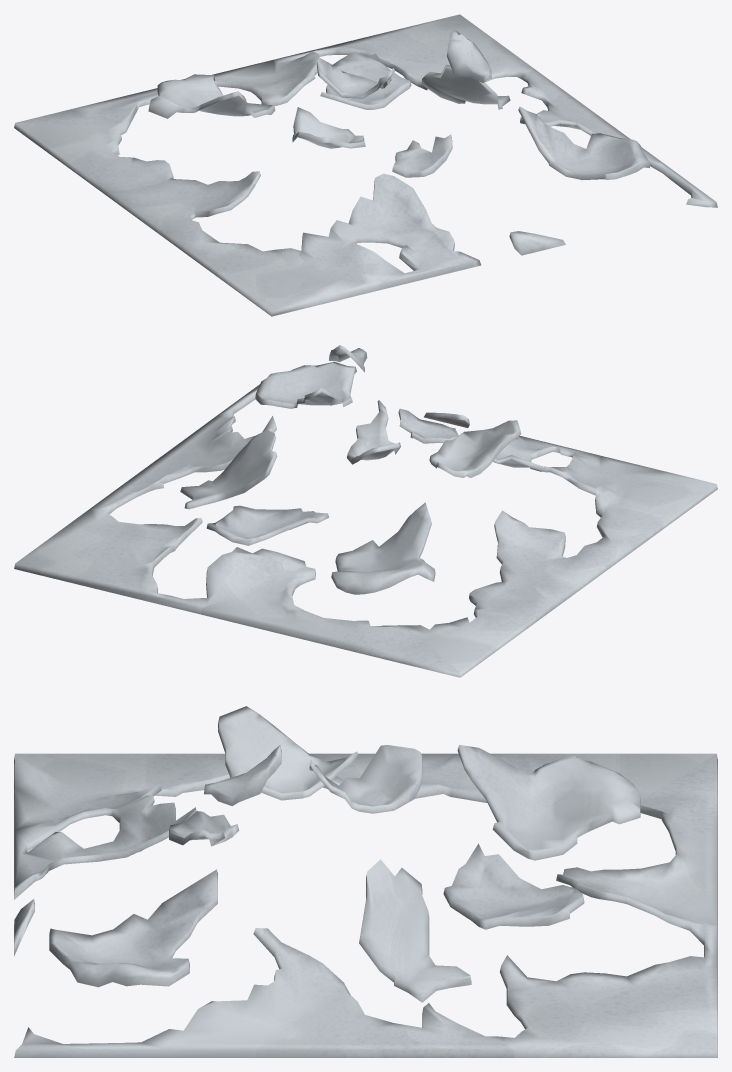
File: Mountains_3_Snow.fbx
The picture shows the model from 3 angles, top to bottom: view 1: azimuth 30°, elevation 25°; view 2: azimuth 150°, elevation 25°; view 3: azimuth 270°, elevation 25°; orthographic projection. The views are drawn at different scales.
Visible parts, largest first — view 1: Mountains_3_Snow_LOD0; view 2: Mountains_3_Snow_LOD0; view 3: Mountains_3_Snow_LOD0.
Part boxes in pixels (bbox=[...]): Mountains_3_Snow_LOD0: bbox=[14, 14, 717, 316]; Mountains_3_Snow_LOD0: bbox=[14, 345, 717, 677]; Mountains_3_Snow_LOD0: bbox=[14, 706, 717, 1057].
Size of what is drawn, in the model's own units: 978 by 307 by 978.
